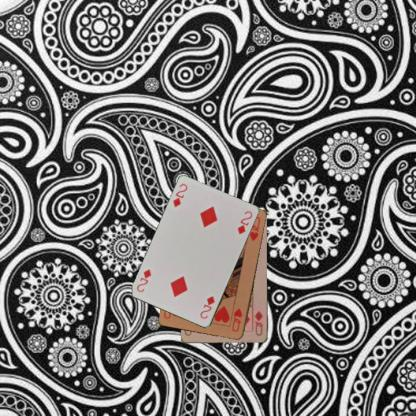2d: (170, 182, 189, 209), (198, 294, 216, 320)
Qd: (252, 308, 265, 337)
Qh: (229, 306, 244, 333)
